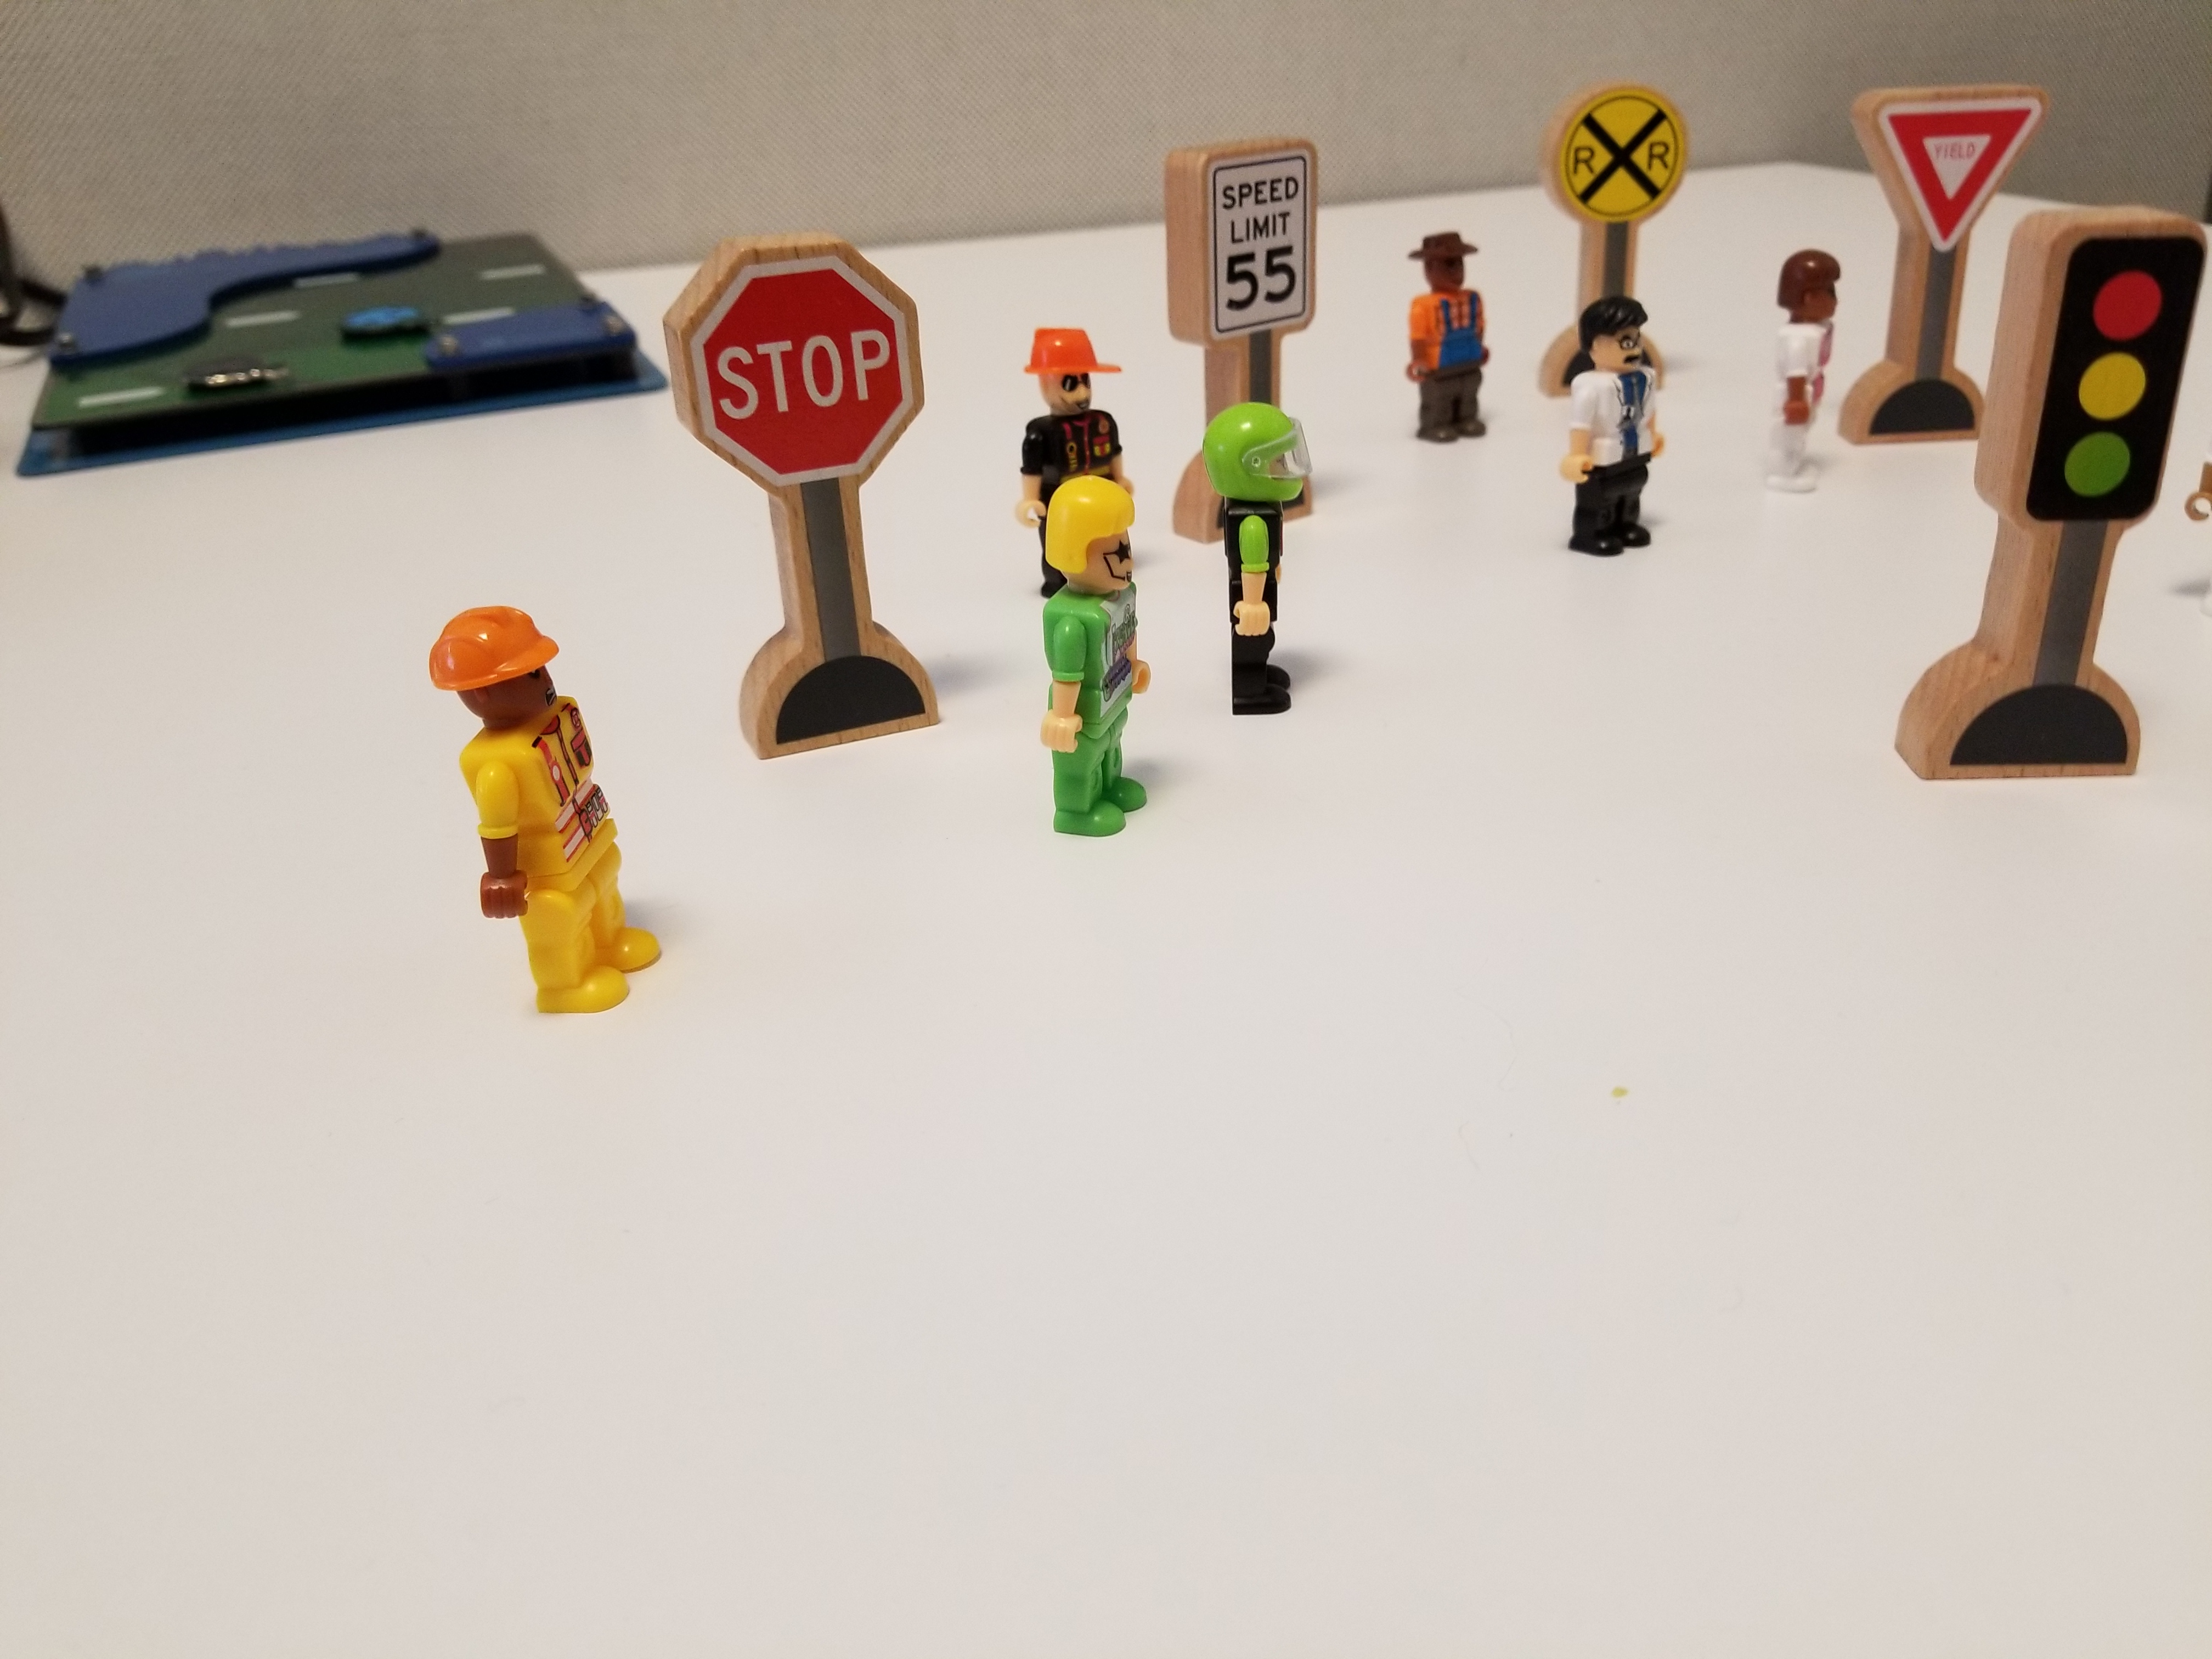Railroad Crossing: (1537, 56, 1700, 253)
Speed limit 55: (1142, 109, 1342, 352)
Stop: (635, 205, 1006, 820)
Traffic Light: (1985, 199, 2200, 877)
Yield: (1847, 49, 2042, 275)
person: (374, 574, 686, 1043), (1011, 477, 1199, 890), (1190, 400, 1335, 738), (1553, 282, 1680, 583), (1373, 214, 1502, 466), (1754, 229, 1864, 521), (997, 304, 1131, 488)
